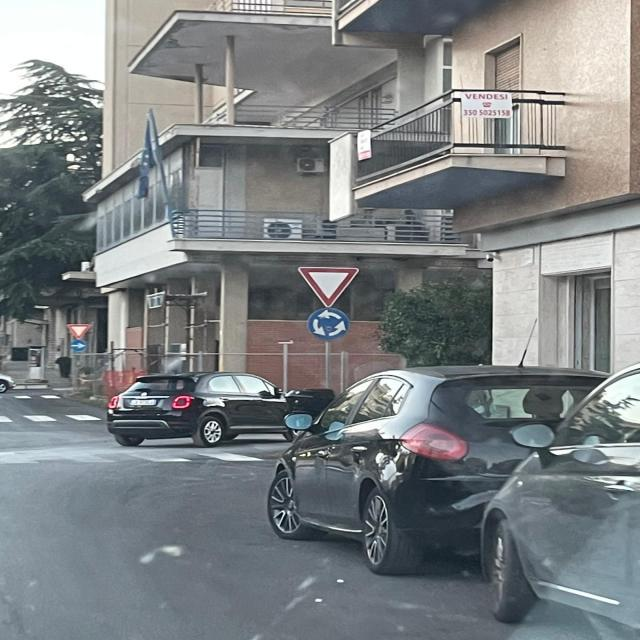prio_give_way: (298, 265, 360, 308), (67, 323, 92, 339)
